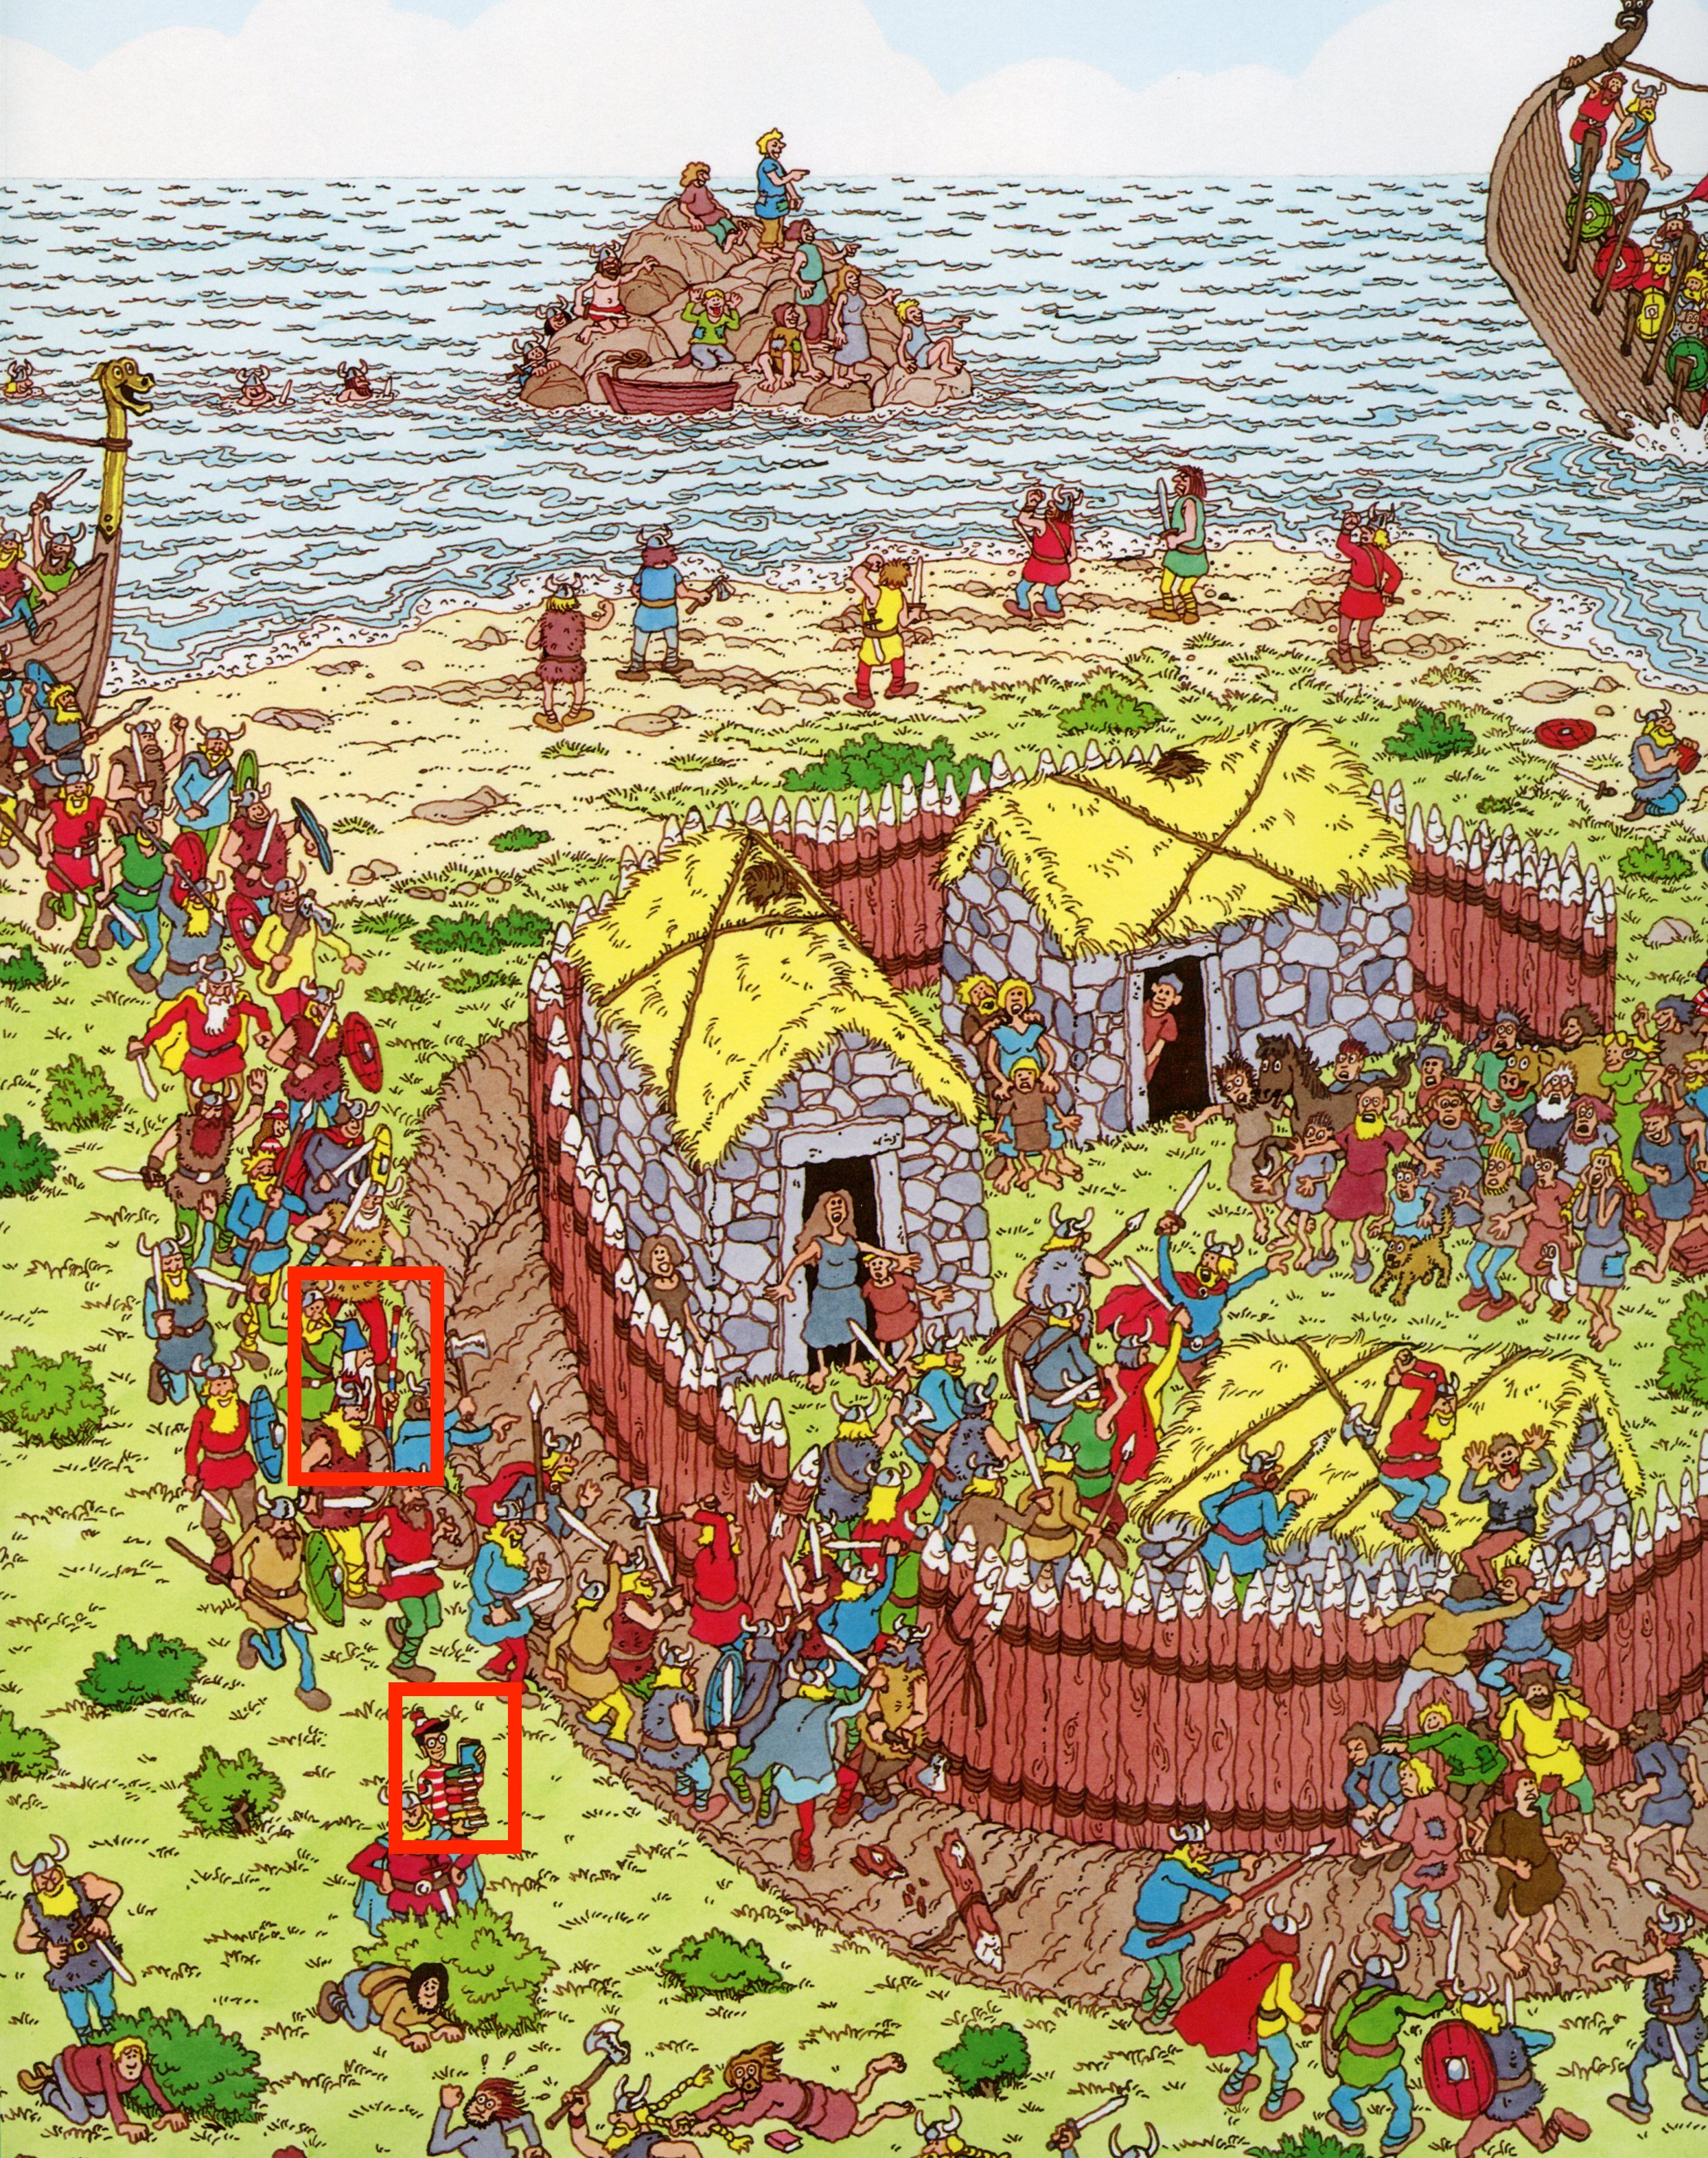waldo: (385, 1683, 524, 1857)
white beard: (294, 1273, 431, 1478)
